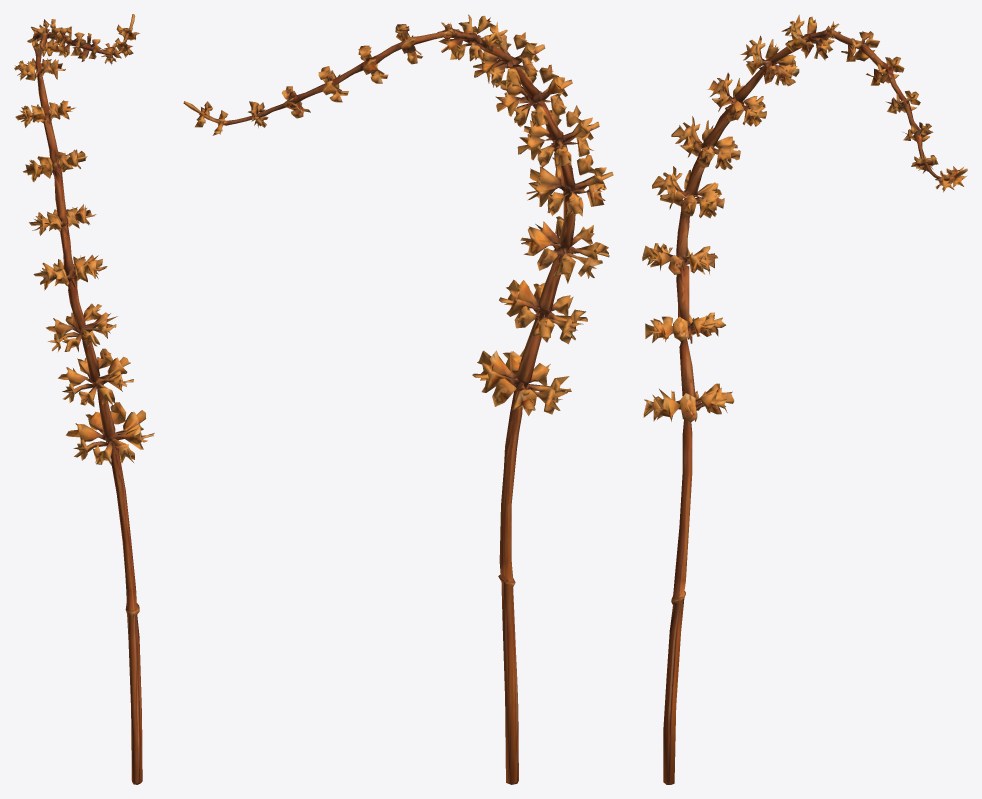
Rendered from flower-07.glb.
3 renders of one model, left to right at view 1: azimuth 30°, elevation 25°; view 2: azimuth 150°, elevation 25°; view 3: azimuth 270°, elevation 25°, orthographic. The views are drawn at different scales.
Parts seen in each view (by area): view 1: tripo_node_de5c3726-9ba4-4ce7-8332-dde6c01af0e9; view 2: tripo_node_de5c3726-9ba4-4ce7-8332-dde6c01af0e9; view 3: tripo_node_de5c3726-9ba4-4ce7-8332-dde6c01af0e9.
Boxes of the visible parts, x1,y1,x2,y2 form: tripo_node_de5c3726-9ba4-4ce7-8332-dde6c01af0e9: [14, 14, 154, 784]; tripo_node_de5c3726-9ba4-4ce7-8332-dde6c01af0e9: [183, 14, 613, 784]; tripo_node_de5c3726-9ba4-4ce7-8332-dde6c01af0e9: [642, 14, 967, 784].
Bounding box in the file's own units: 0.334 × 0.998 × 0.3926.
Materials: 1 (1 with a texture image).
